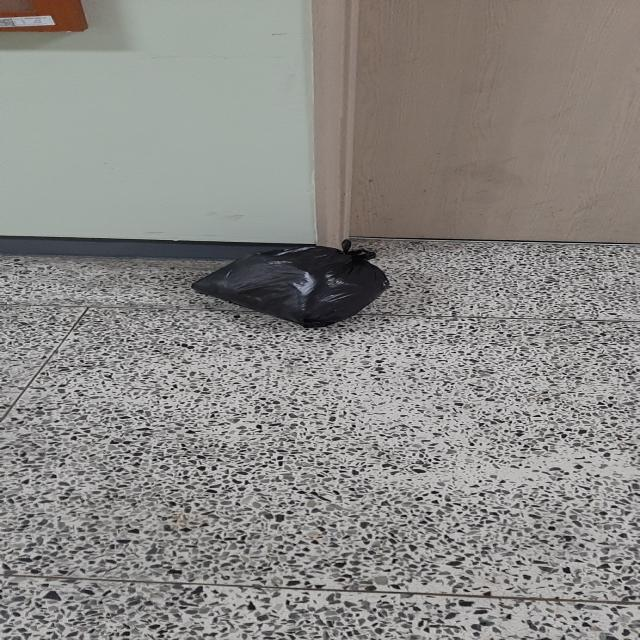black_bag: (187, 236, 392, 326)
